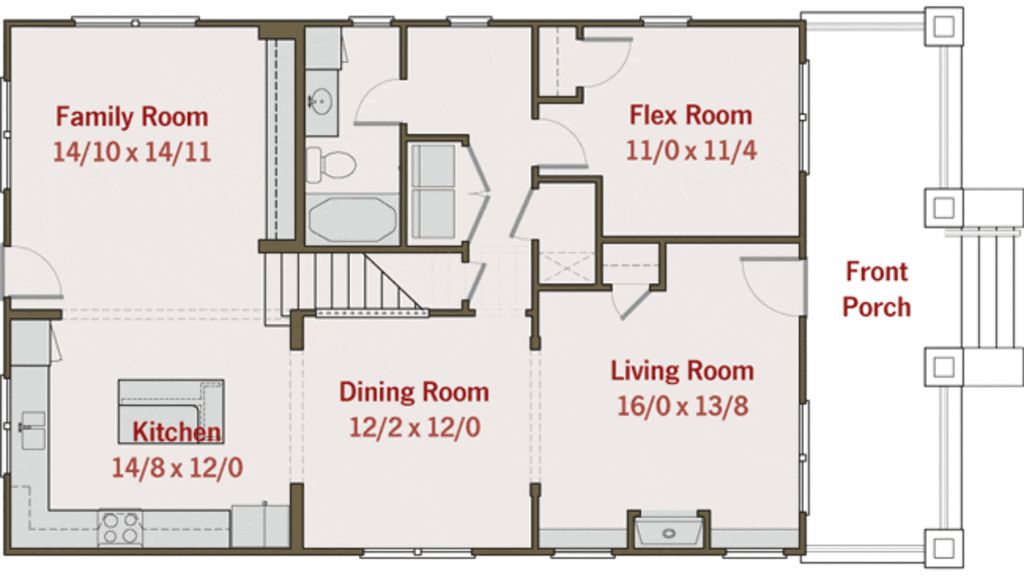door: (744, 255, 810, 317), (3, 249, 62, 298), (539, 120, 591, 169), (360, 77, 406, 122), (586, 39, 628, 86), (614, 288, 655, 317)
large_sink: (308, 149, 363, 189)
small_sink: (305, 68, 340, 137)
small_sofa: (410, 144, 457, 190), (415, 192, 454, 240)
stairs: (264, 252, 429, 324)
tub: (307, 191, 401, 251)
window: (74, 16, 206, 24), (801, 59, 809, 168), (803, 401, 809, 505), (361, 553, 475, 558), (554, 550, 613, 558), (1, 375, 5, 470), (728, 550, 784, 556), (451, 16, 489, 22), (645, 17, 688, 21), (349, 19, 392, 23), (4, 75, 5, 189)
